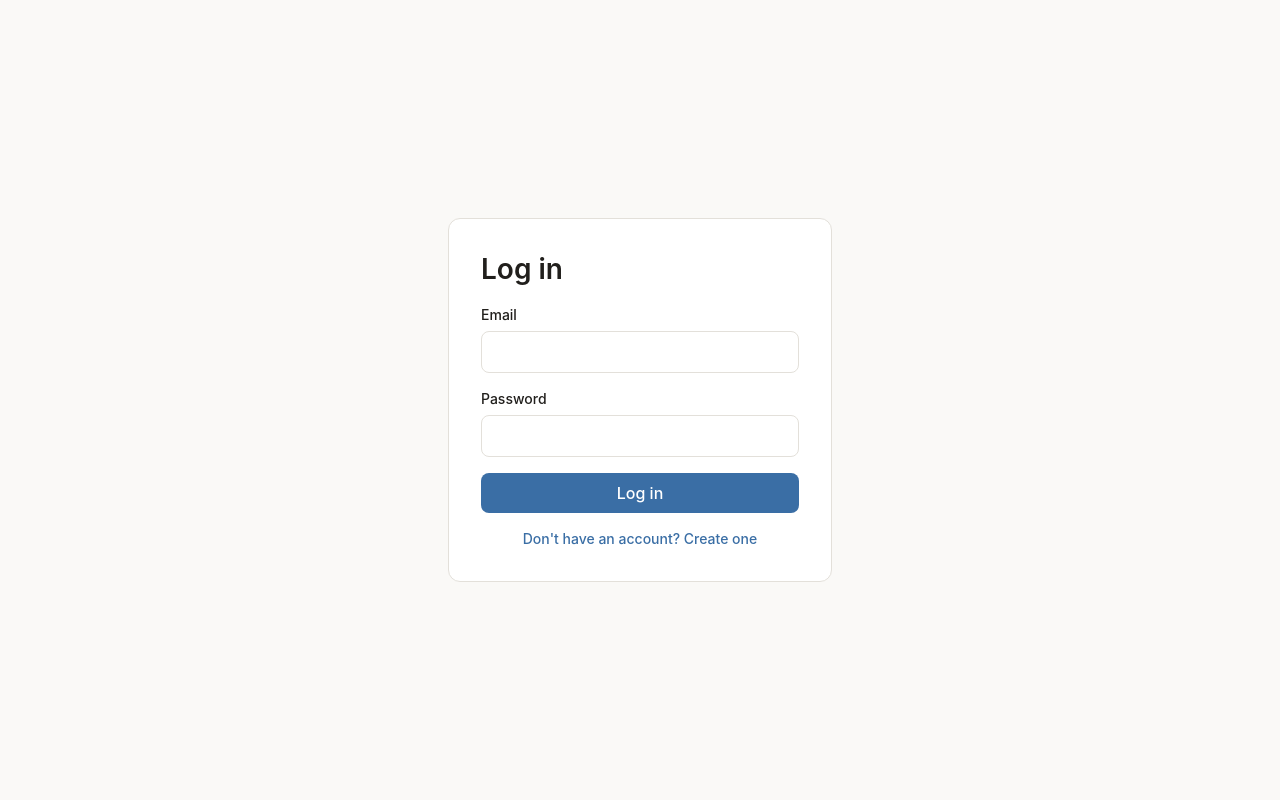
router + ProtectedRoute integration › drives login -> decks -> logout -> redirected back to /login
Expected: the heading "Log in" is shown, [481,252,563,286]
Type "person@example.com" into the field labelled "Email" at (640, 352), box [481,331,799,373]
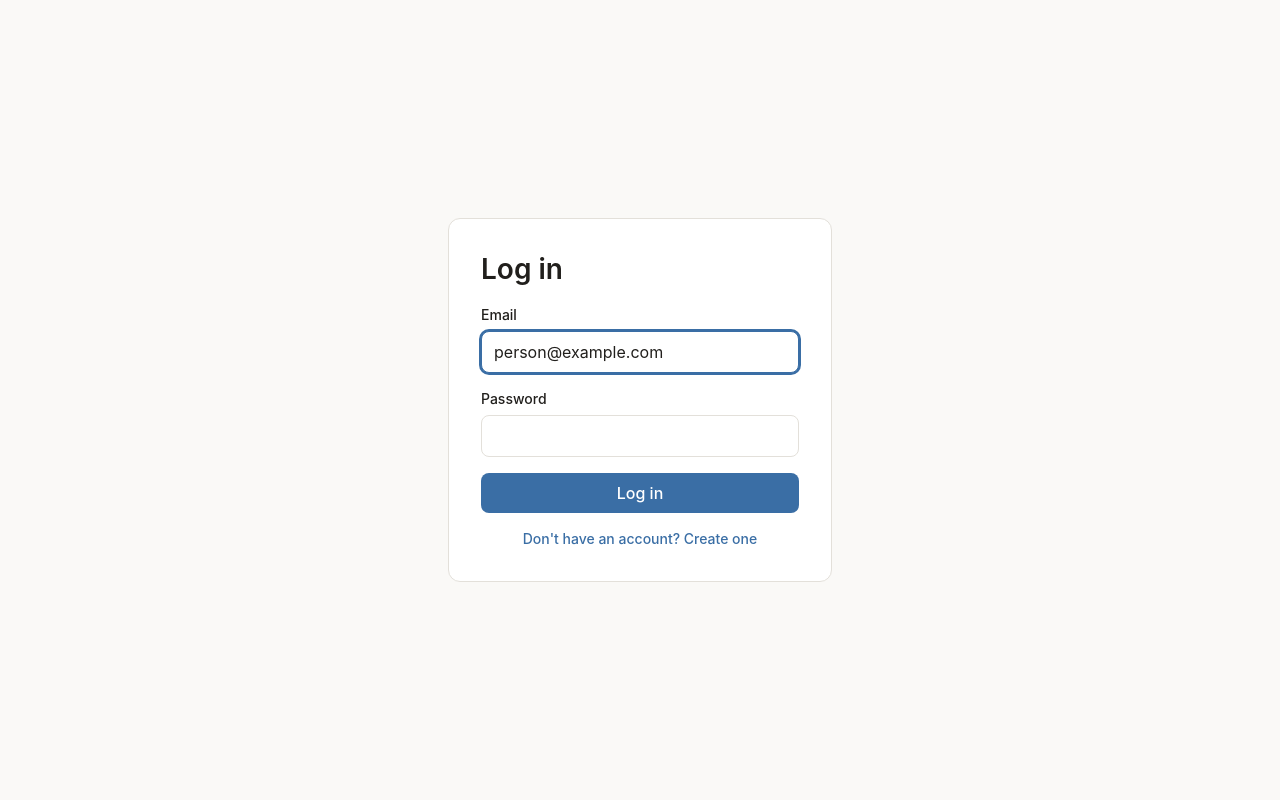
Type "hunter2" into the password field labelled "Password" at (640, 436), box [481,415,799,457]
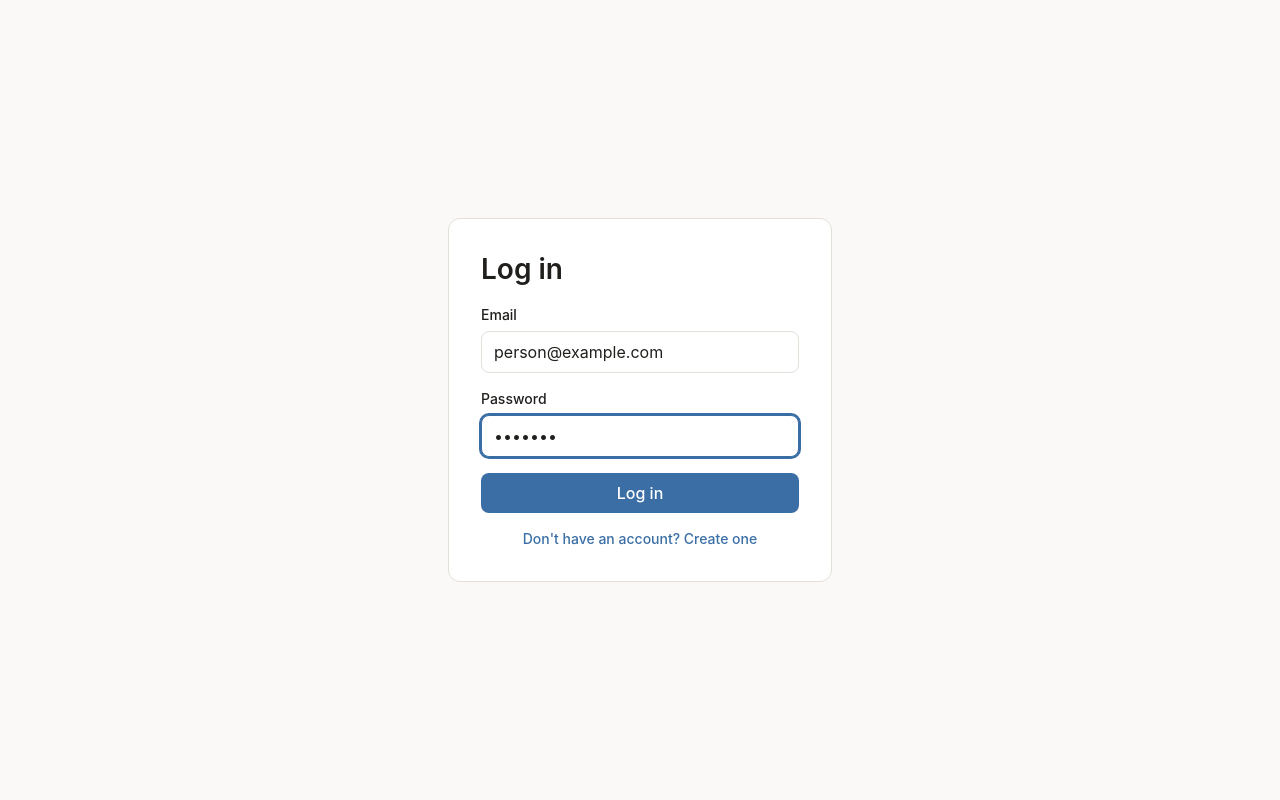
Click the button "Log in" at (640, 493), box [481,473,799,513]
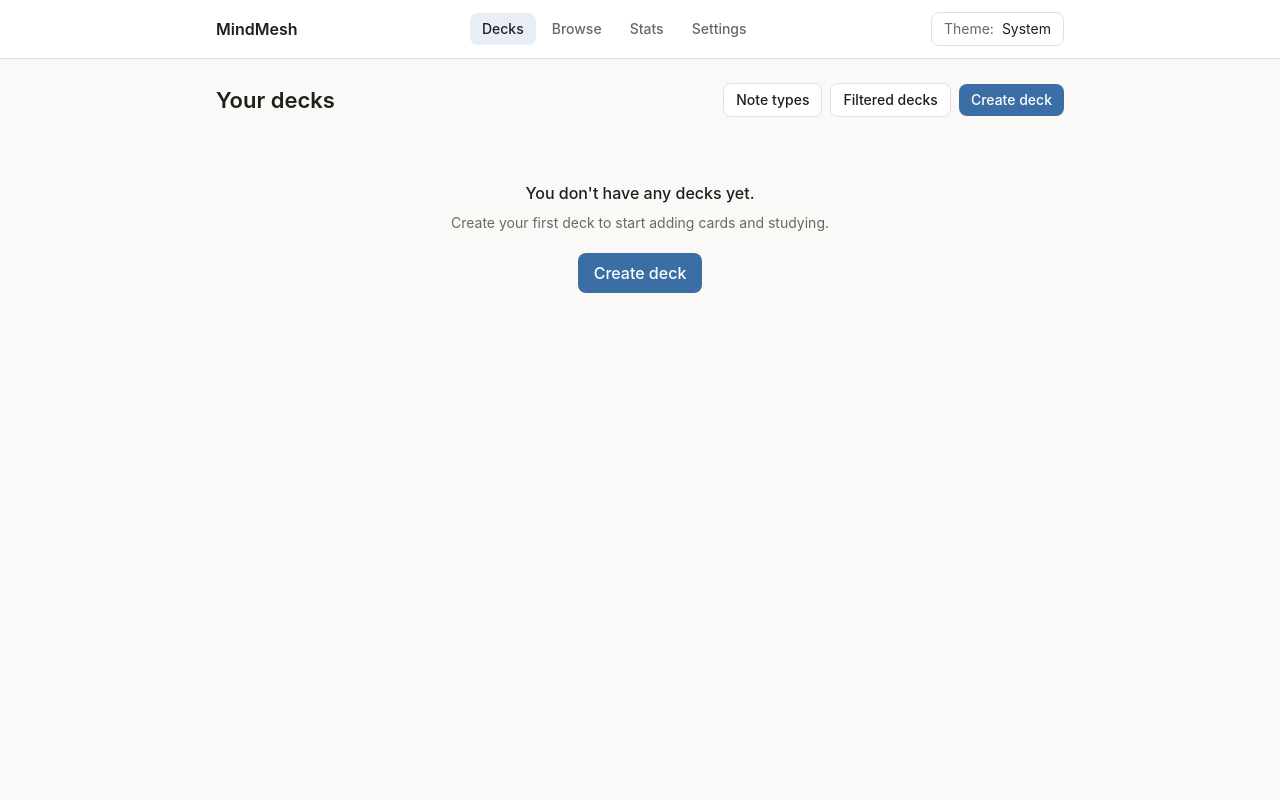
Expected: the heading "Your decks" is shown, [216,85,335,115]
Expected: the text "You don't have any decks yet." is shown, [526,181,754,205]
Expected: the link "MindMesh" is shown, [216,17,298,41]
# Logout lives on the Settings screen (Task 12), not the Decks header.
Click the link "Settings" at (719, 28), box [692,20,746,37]
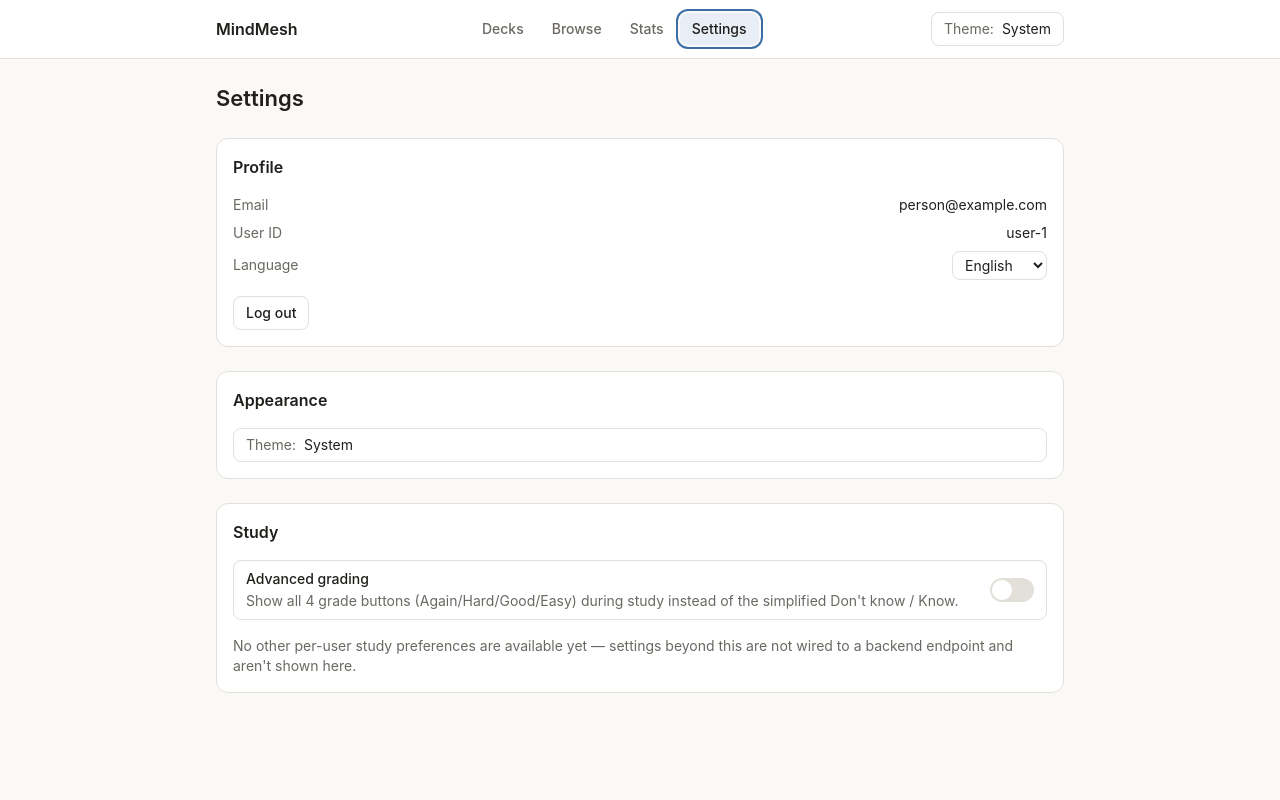
Click the button "Log out" at (271, 313), box [233,296,309,330]
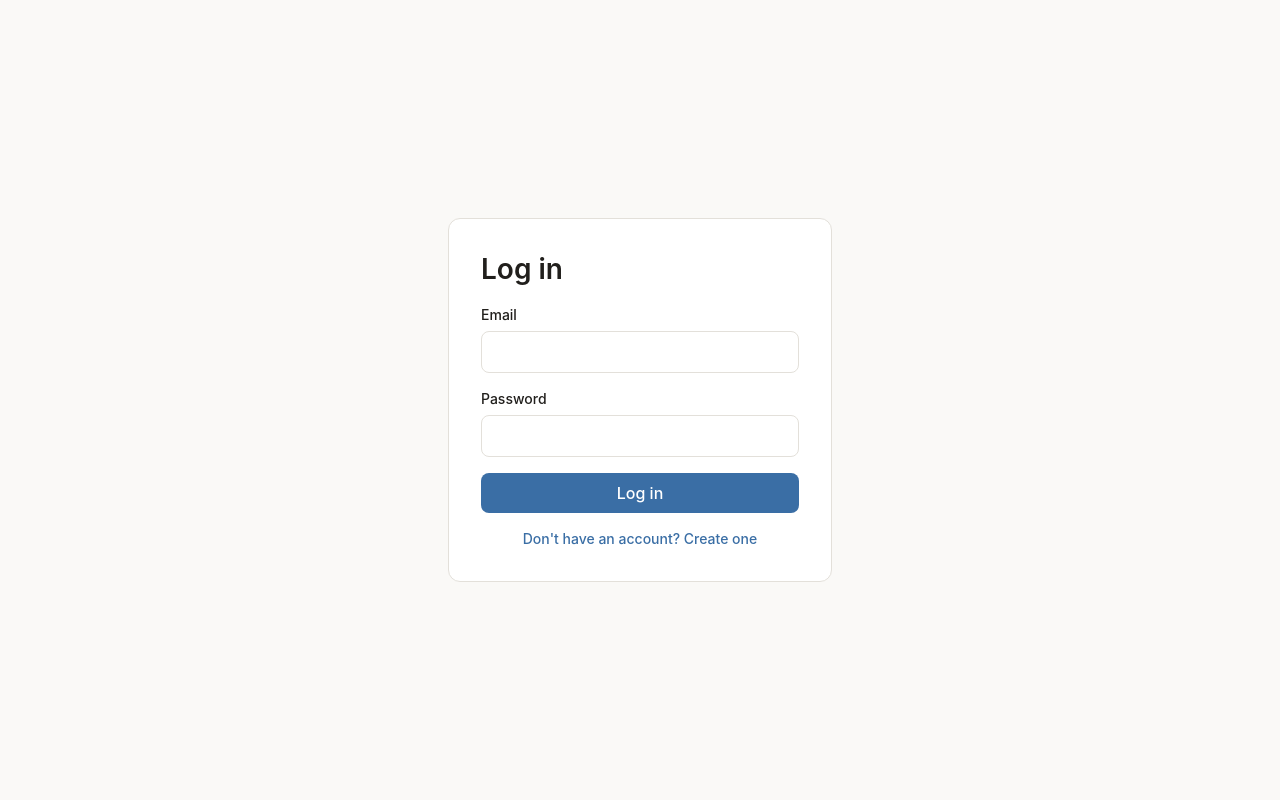
Expected: the heading "Log in" is shown, [481,252,563,286]
